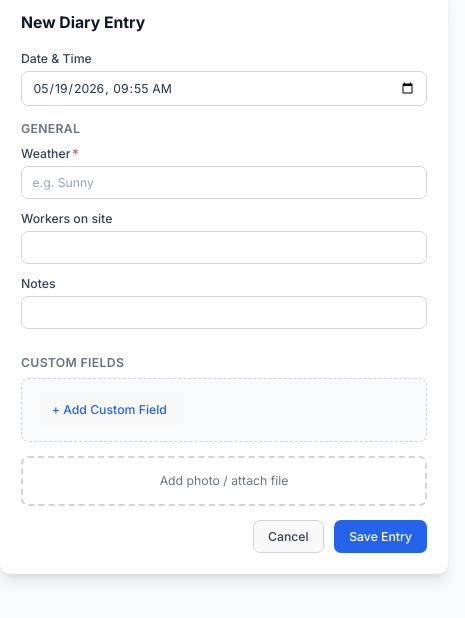
Test: DiaryCreateForm › shows validation error when required field is empty on submit
Click the button "Save Entry".
click(381, 536)  # box [334,520,427,553]
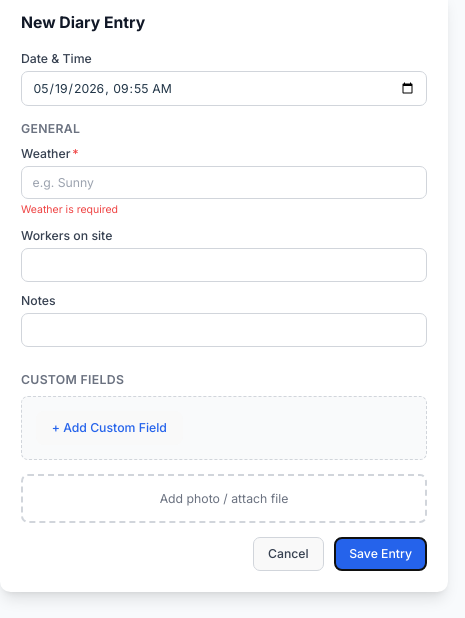
Check: the text "Weather is required" is shown, box [21,202,118,216]
